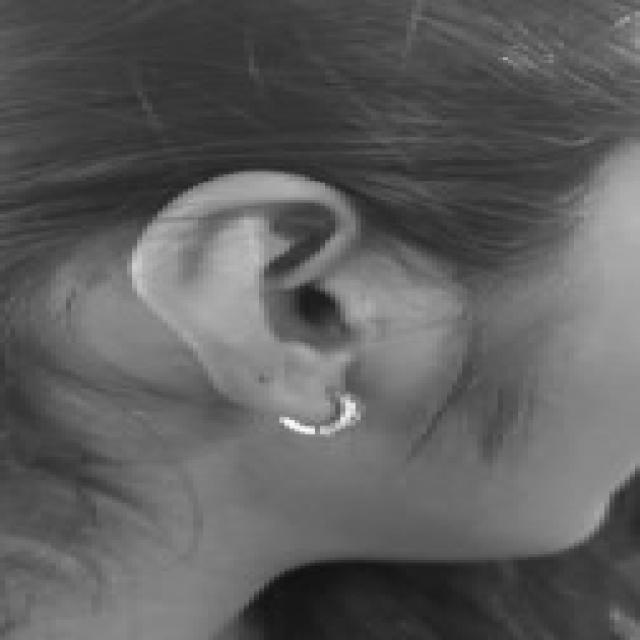ear: (132, 171, 366, 420)
